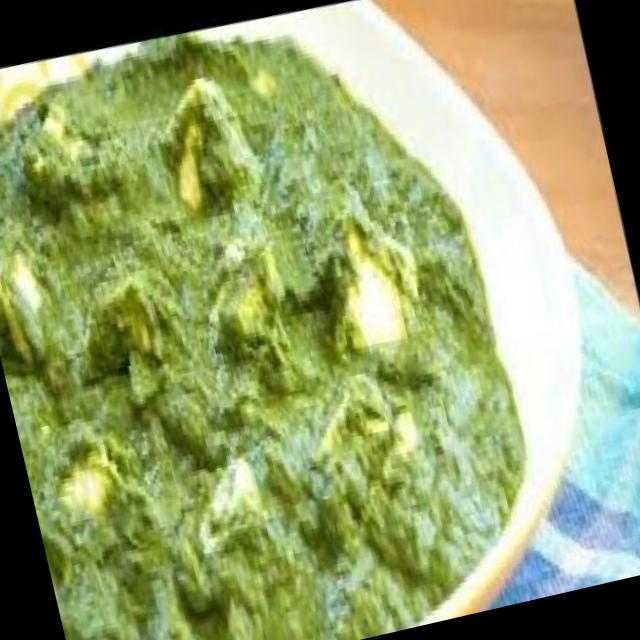palak_paneer: (0, 0, 565, 640)
